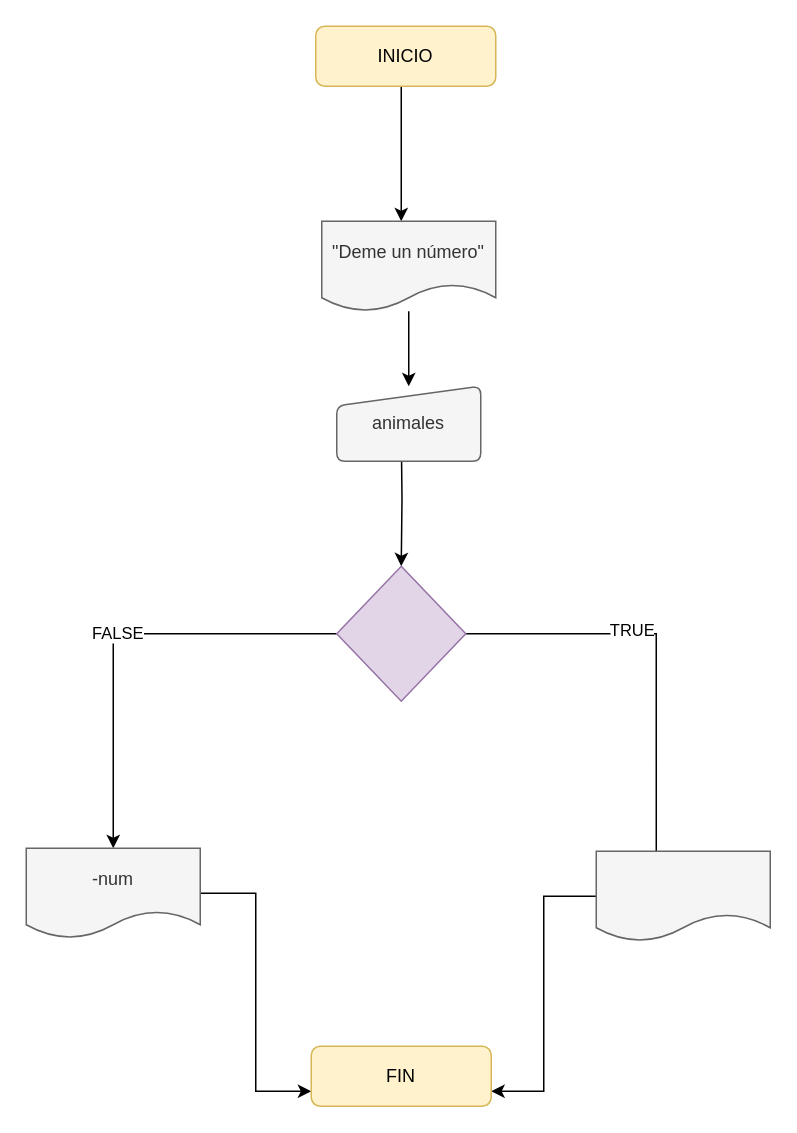
The diagram is 797 pixels wide and 1133 high, and some of its shapes have lost their labels. The centre of each missing label's shape, as x and y in pixels:
num: (682,895)
num > 0: (400,633)
